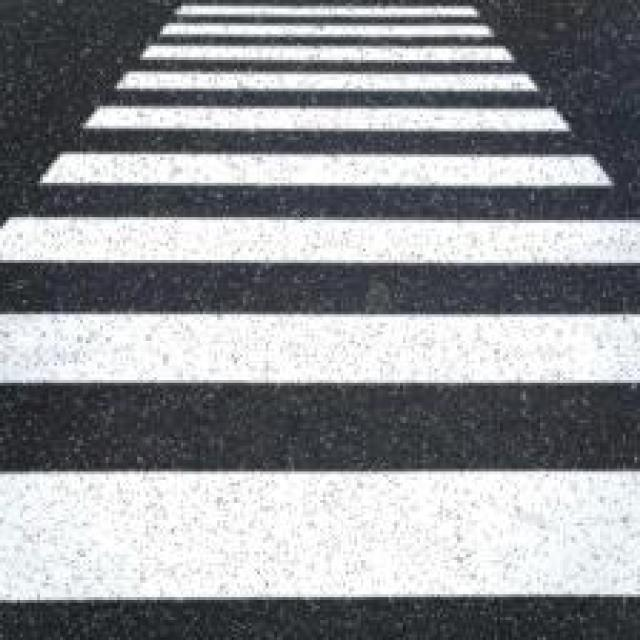zebra: (3, 0, 640, 623)
